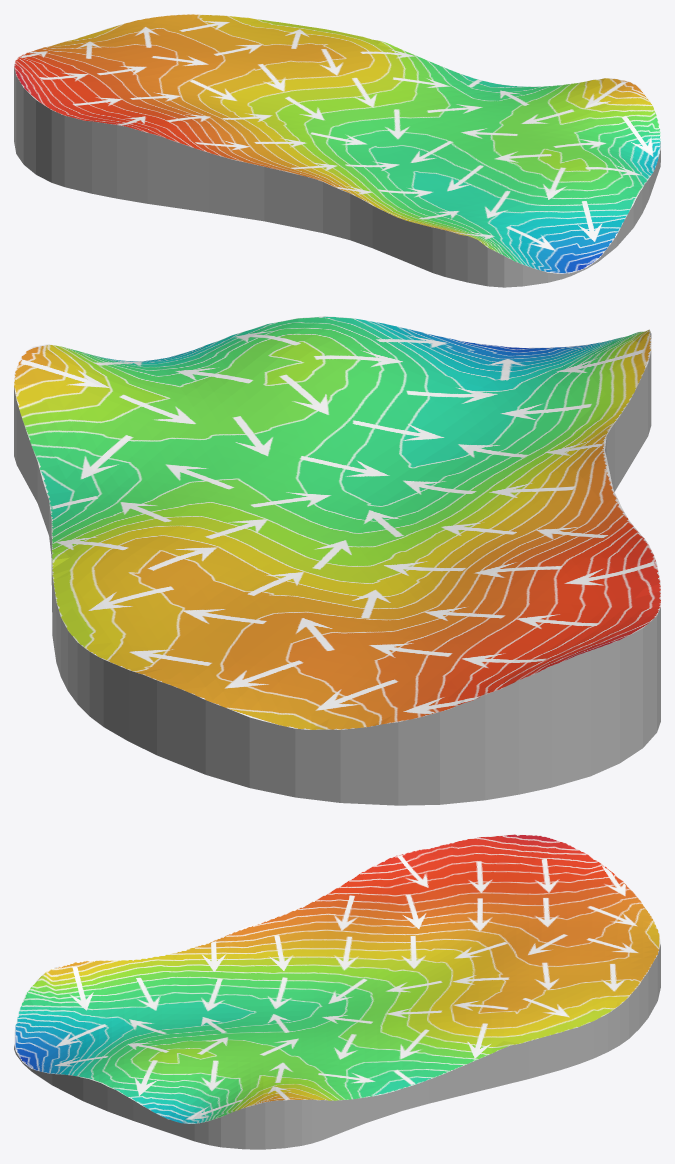
3 renders of one model, top to bottom at view 1: azimuth 30°, elevation 25°; view 2: azimuth 150°, elevation 25°; view 3: azimuth 270°, elevation 25°, orthographic. The views are drawn at different scales.
Bounding box in the file's own units: 4.25 × 0.6446 × 4.86.
Materials: 2 (1 with a texture image).
